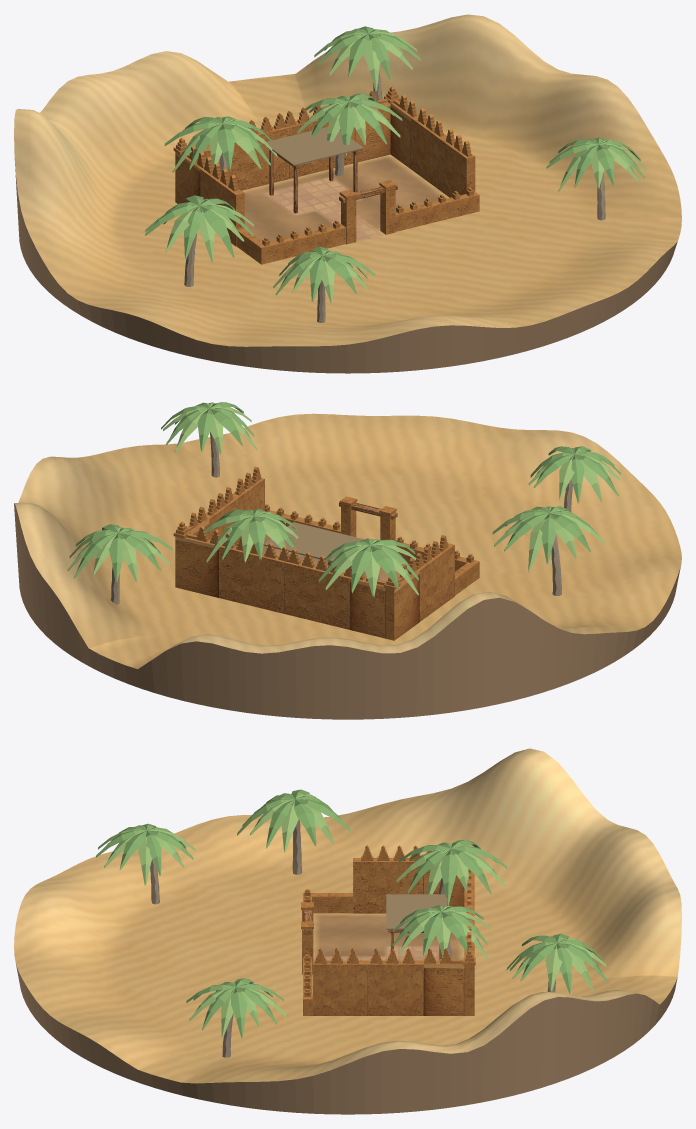
3 renders of one model, top to bottom at view 1: azimuth 30°, elevation 25°; view 2: azimuth 150°, elevation 25°; view 3: azimuth 270°, elevation 25°, orthographic.
Parts seen in each view (by area): view 1: Ground, Plinth, Wall.001, ArishRoof, Wall.004, LowWall, LowWall.001, Wall.005, Wall.003, CornerA.002, CornerB.002, CornerA.001 (+4 smaller); view 2: Ground, Plinth, Wall.001, Wall.002, CornerA.002, Wall.003, CornerB.001, CornerA.001, ArishRoof, Wall.004, LowCornerL, frond.017 (+4 smaller); view 3: Ground, Plinth, Wall.004, Wall.005, Wall.003, CornerB.002, ArishRoof, LowCornerL, CornerA.002, frond.027.
Boxes of the visible parts, bbox=[...] form: Ground: bbox=[14, 14, 681, 346]; Plinth: bbox=[14, 159, 677, 373]; Wall.001: bbox=[228, 126, 289, 190]; ArishRoof: bbox=[264, 126, 363, 165]; Wall.004: bbox=[438, 136, 475, 197]; LowWall: bbox=[257, 224, 345, 264]; LowWall.001: bbox=[395, 193, 479, 231]; Wall.005: bbox=[411, 116, 446, 189]; Wall.003: bbox=[200, 168, 244, 246]; CornerA.002: bbox=[355, 102, 390, 162]; CornerB.002: bbox=[390, 103, 418, 168]; CornerA.001: bbox=[175, 152, 202, 203]; Ground: bbox=[14, 413, 681, 669]; Plinth: bbox=[14, 503, 680, 719]; Wall.001: bbox=[284, 561, 351, 629]; Wall.002: bbox=[219, 545, 285, 613]; CornerA.002: bbox=[175, 536, 218, 597]; Wall.003: bbox=[417, 543, 454, 621]; CornerB.001: bbox=[350, 577, 385, 638]; CornerA.001: bbox=[385, 570, 419, 640]; ArishRoof: bbox=[263, 522, 363, 561]; Wall.004: bbox=[232, 478, 264, 545]; LowCornerL: bbox=[455, 562, 477, 595]; frond.017: bbox=[351, 545, 370, 592]; Ground: bbox=[14, 748, 681, 1083]; Plinth: bbox=[16, 964, 677, 1114]; Wall.004: bbox=[312, 960, 368, 1015]; Wall.005: bbox=[368, 960, 423, 1015]; Wall.003: bbox=[353, 858, 423, 913]; CornerB.002: bbox=[424, 960, 464, 1015]; ArishRoof: bbox=[386, 894, 447, 929]; LowCornerL: bbox=[310, 893, 352, 913]; CornerA.002: bbox=[464, 943, 474, 1015]; frond.027: bbox=[440, 849, 458, 905].
Bounding box in the file's own units: 33 × 5.97 × 33.
Materials: 17 (11 with a texture image).
